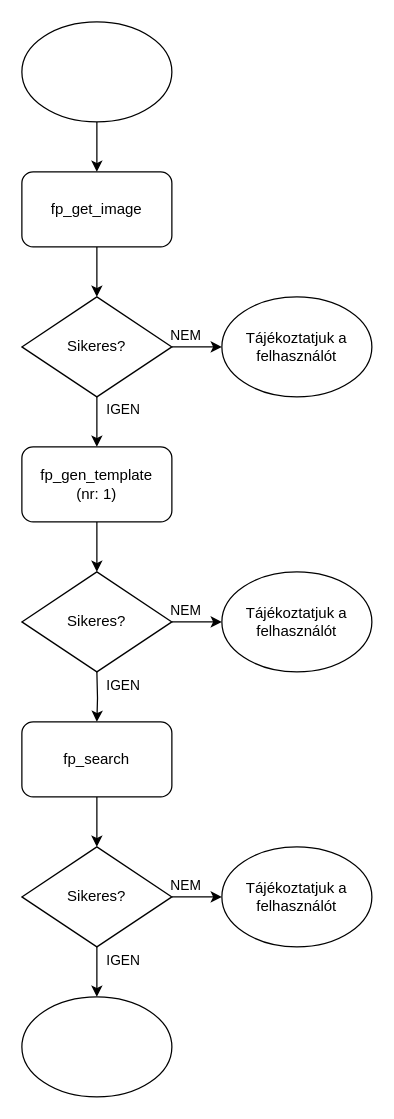
Some shapes in this 394 by 1119 pixel diagram are drawn without their labels. The shapes that lost their labels are listed below. From the top down, each one's centre as x and y in pixels, then its label:
(x=96, y=71): START
(x=96, y=1046): Megkapjuk az ujjlenyomat azonosítóját
